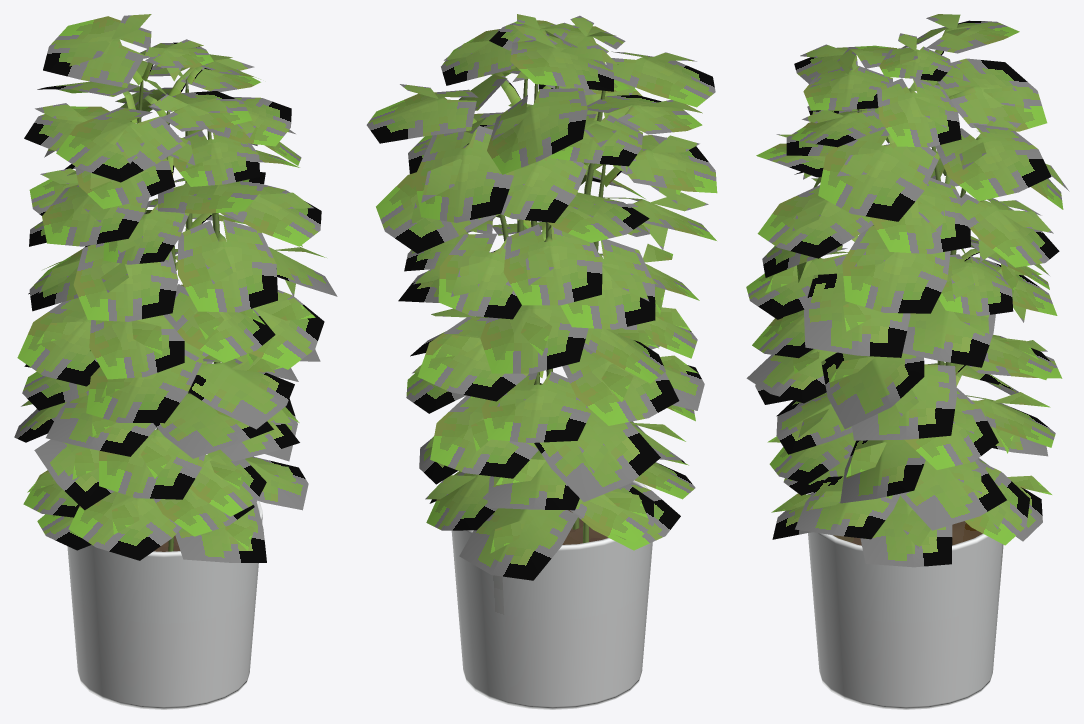
File: a_com_building_b01_plant03.gltf
The picture shows the model from 3 angles, left to right: view 1: azimuth 30°, elevation 25°; view 2: azimuth 150°, elevation 25°; view 3: azimuth 270°, elevation 25°; orthographic projection. The views are drawn at different scales.
Visible parts, largest first — view 1: um_a_com_building_b01_plant03_model_a_com_building_b01_plant (×2); view 2: um_a_com_building_b01_plant03_model_a_com_building_b01_plant (×2); view 3: um_a_com_building_b01_plant03_model_a_com_building_b01_plant (×2).
Part boxes in pixels (x1,y1,x2,y2): um_a_com_building_b01_plant03_model_a_com_building_b01_plant (×2): [14, 14, 337, 709]; um_a_com_building_b01_plant03_model_a_com_building_b01_plant (×2): [366, 14, 717, 709]; um_a_com_building_b01_plant03_model_a_com_building_b01_plant (×2): [746, 14, 1069, 709].
Bounding box in the file's own units: 0.6628 × 1.47 × 0.6699.
2 materials, 2 textured.
